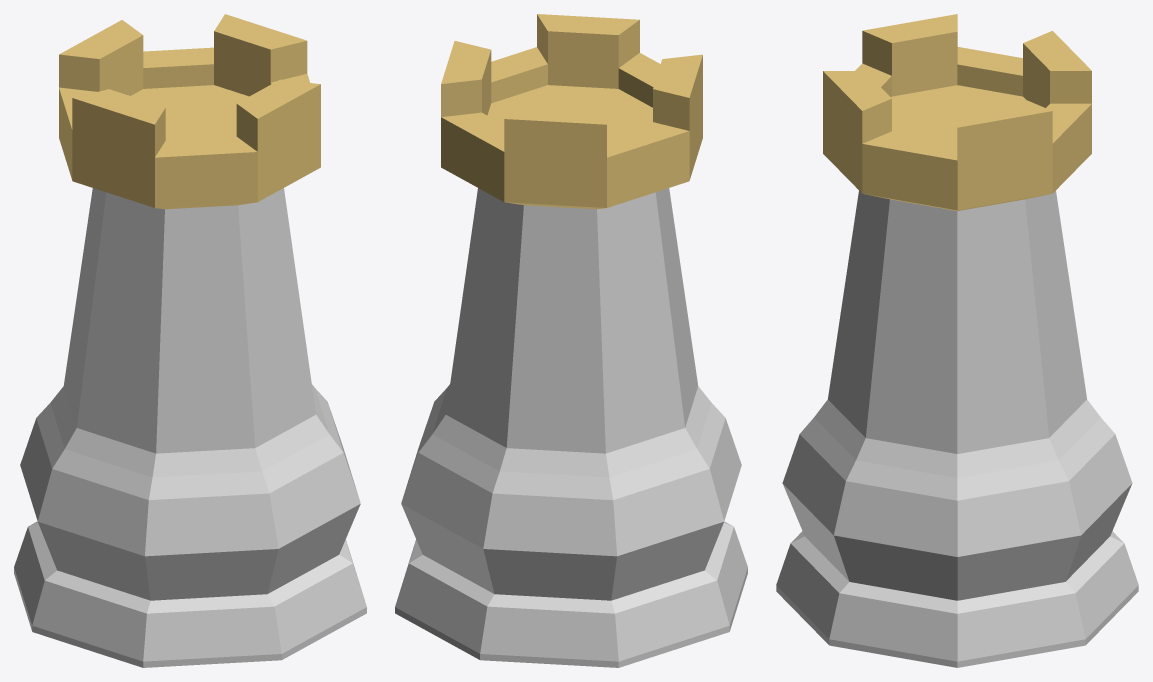
Rendered from gercek5_r_w.glb.
3 renders of one model, left to right at view 1: azimuth 30°, elevation 25°; view 2: azimuth 150°, elevation 25°; view 3: azimuth 270°, elevation 25°, orthographic.
Visible parts, largest first — view 1: r_w; view 2: r_w; view 3: r_w.
Part boxes in pixels (x1,y1,x2,y2): r_w: (14,14,366,667); r_w: (395,14,747,667); r_w: (776,14,1138,667).
Bounding box in the file's own units: 0.5686 × 0.9 × 0.5686.
